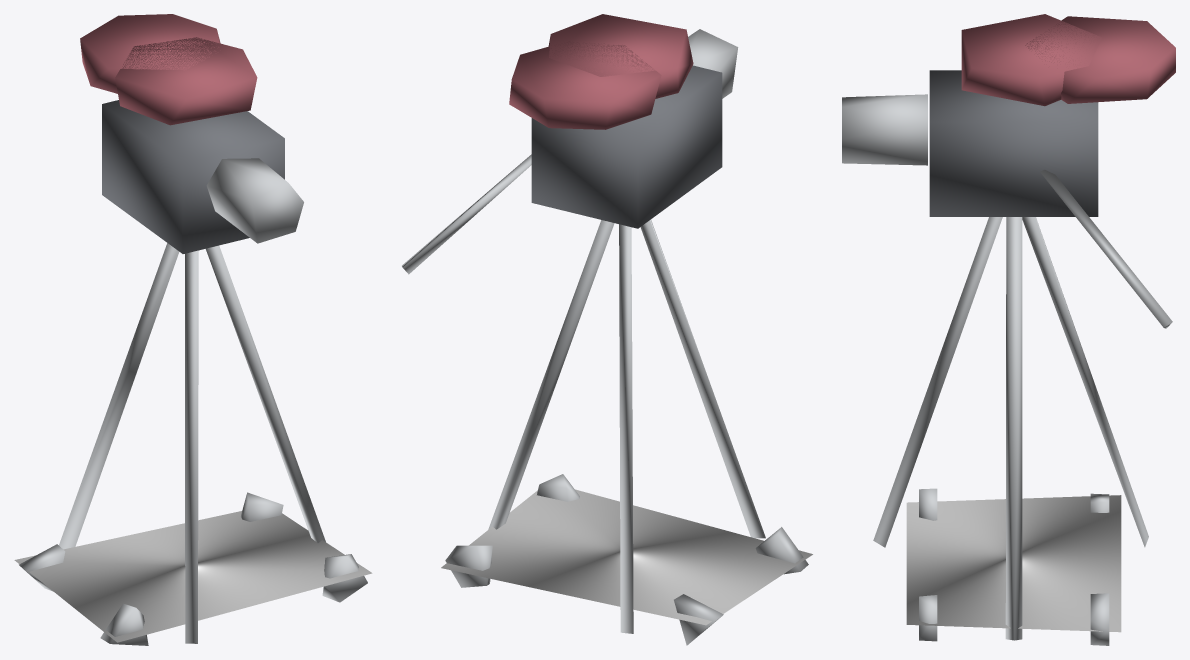
The model's file is Prop_StudioCamera_LOD2.glb.
3 renders of one model, left to right at view 1: azimuth 30°, elevation 25°; view 2: azimuth 150°, elevation 25°; view 3: azimuth 270°, elevation 25°, orthographic. The views are drawn at different scales.
Visible parts, largest first — view 1: Prop_StudioCamera_LOD2; view 2: Prop_StudioCamera_LOD2; view 3: Prop_StudioCamera_LOD2.
Part boxes in pixels (x1,y1,x2,y2): Prop_StudioCamera_LOD2: [14, 14, 372, 645]; Prop_StudioCamera_LOD2: [402, 14, 812, 645]; Prop_StudioCamera_LOD2: [842, 14, 1175, 645].
Bounding box in the file's own units: 1.08 × 1.96 × 1.09.
